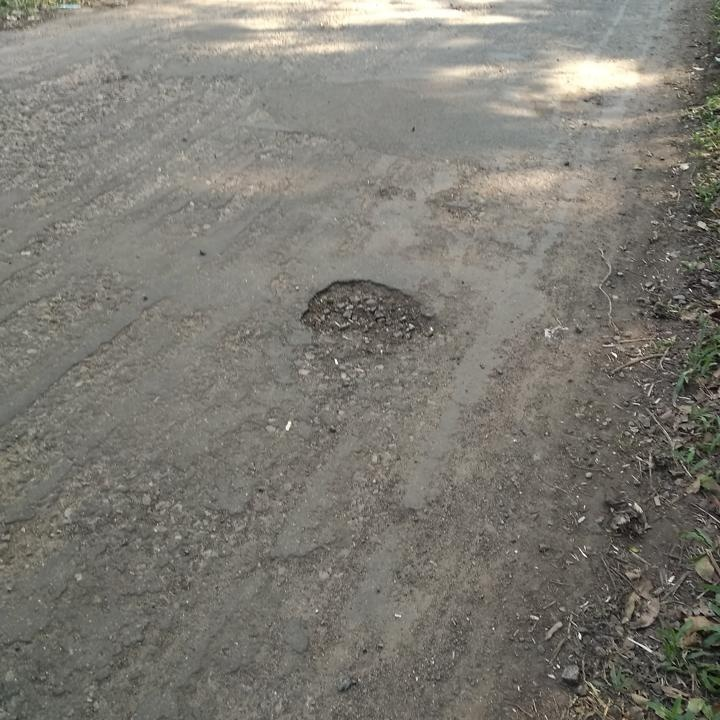pothole: (296, 274, 447, 354)
